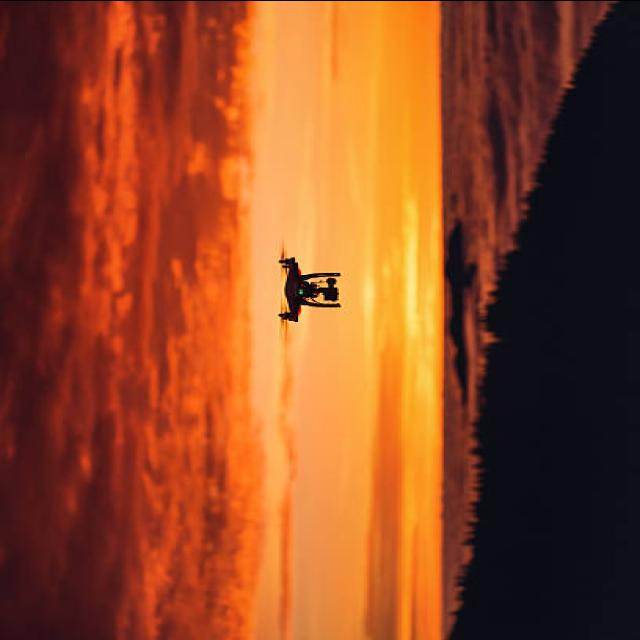drone: (274, 240, 342, 342)
